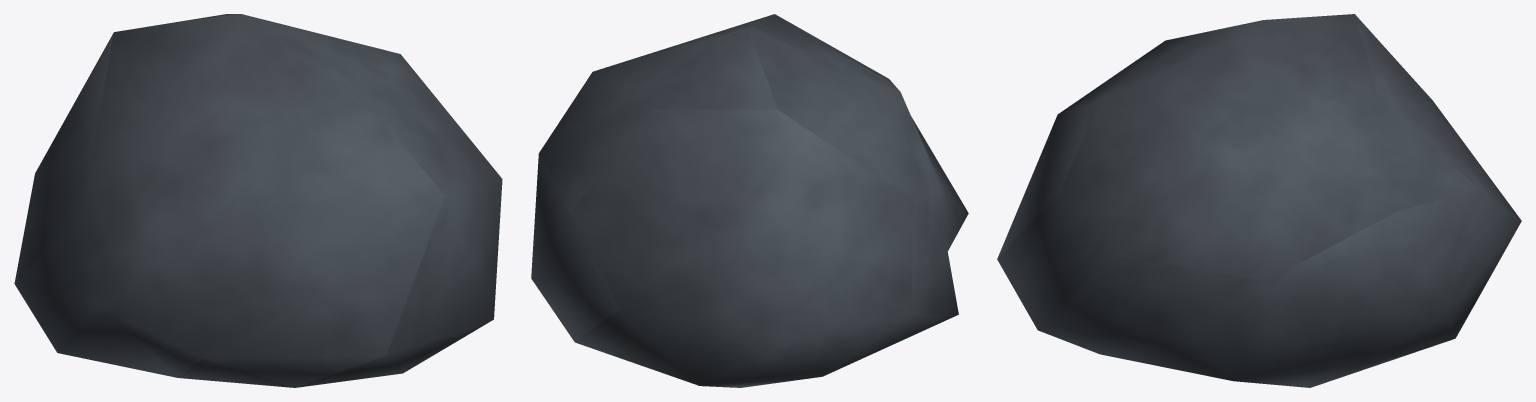
Rendered from rock_a.fbx.
3 renders of one model, left to right at view 1: azimuth 30°, elevation 25°; view 2: azimuth 150°, elevation 25°; view 3: azimuth 270°, elevation 25°, orthographic. The views are drawn at different scales.
Parts seen in each view (by area): view 1: rock_a; view 2: rock_a; view 3: rock_a.
Part boxes in pixels (x1,y1,x2,y2): rock_a: [14, 14, 502, 387]; rock_a: [531, 14, 968, 387]; rock_a: [997, 14, 1521, 387].
Bounding box in the file's own units: 192 × 150 × 218.
